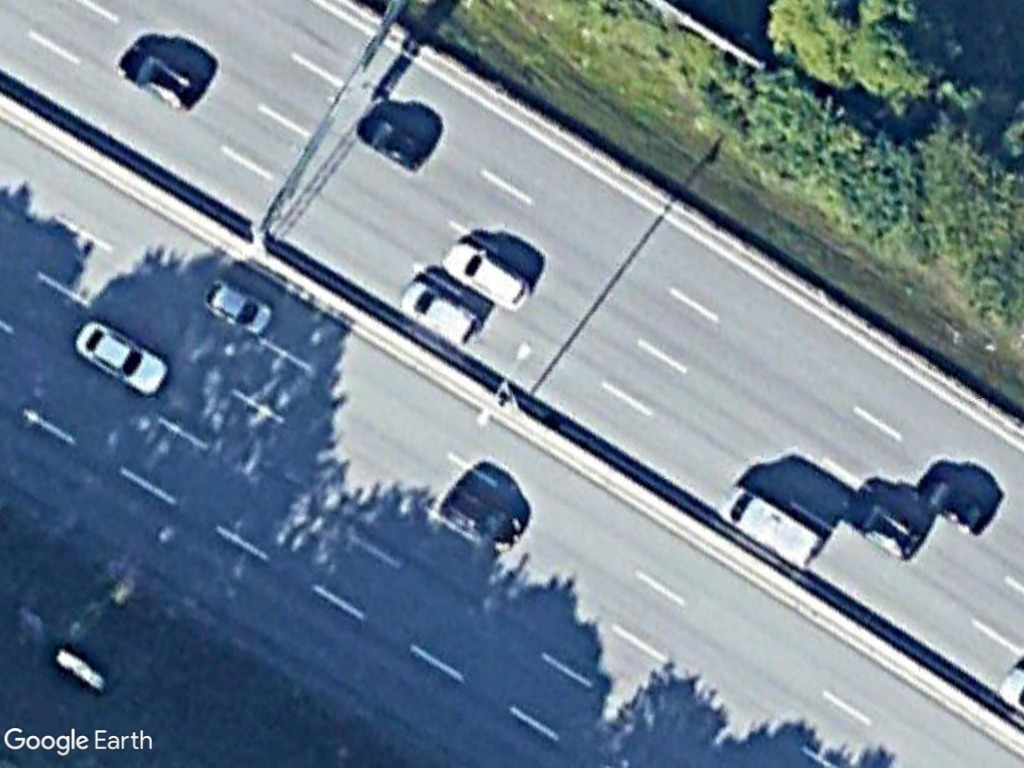car: (70, 316, 175, 398), (443, 239, 537, 315), (843, 481, 928, 563), (399, 277, 492, 351), (116, 41, 205, 112), (196, 273, 280, 341), (353, 110, 432, 173)
van: (721, 482, 827, 573)
